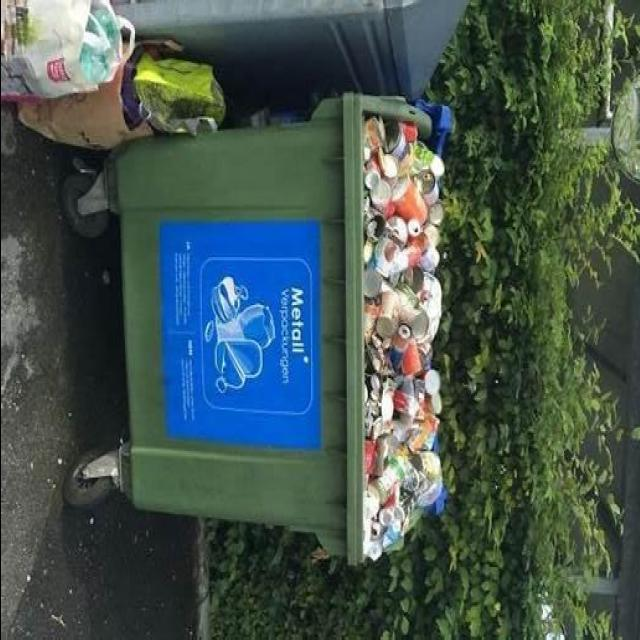Garbage: (362, 114, 444, 560), (339, 369, 354, 560)
Plastic_bottle: (371, 451, 408, 505), (392, 389, 419, 416)
can: (388, 324, 421, 378), (375, 287, 399, 338), (405, 217, 421, 237)
tin_box: (391, 177, 426, 224), (384, 120, 408, 160)
